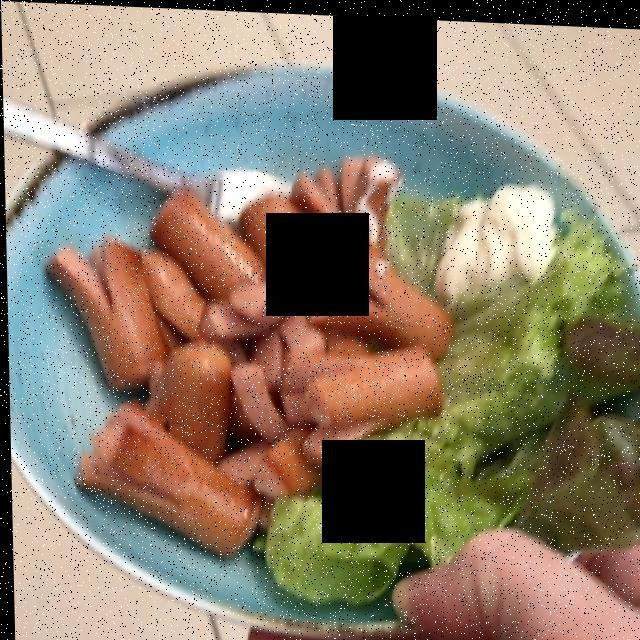mayonnaise: (428, 170, 559, 301)
salad: (250, 178, 640, 610)
sausage: (42, 142, 458, 545)
